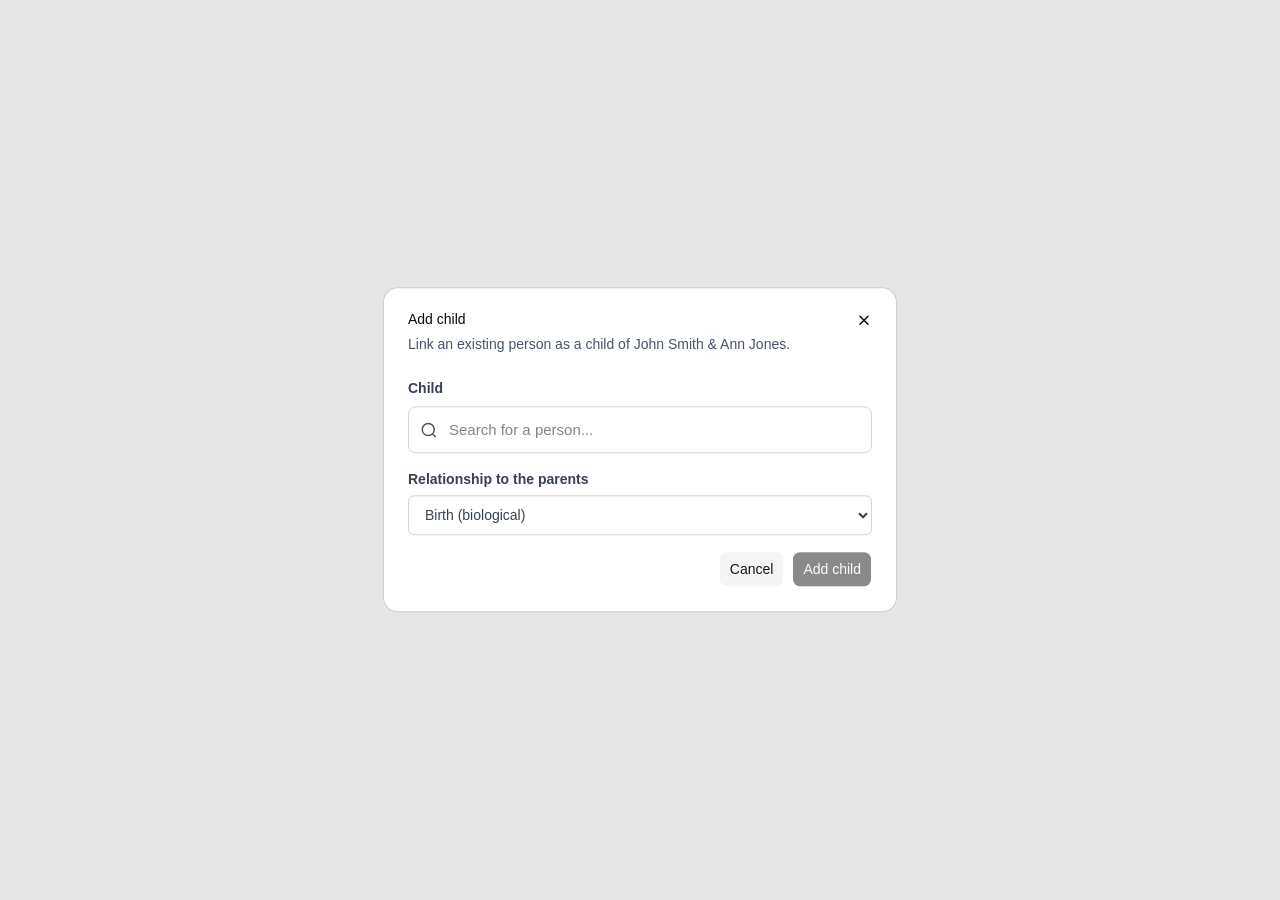
AddChildDialog › hides excluded people (the partners and current children) from the search
Type "Smith" into the dropdown named "Child". click: (640, 430)
box: [408,406,872,454]
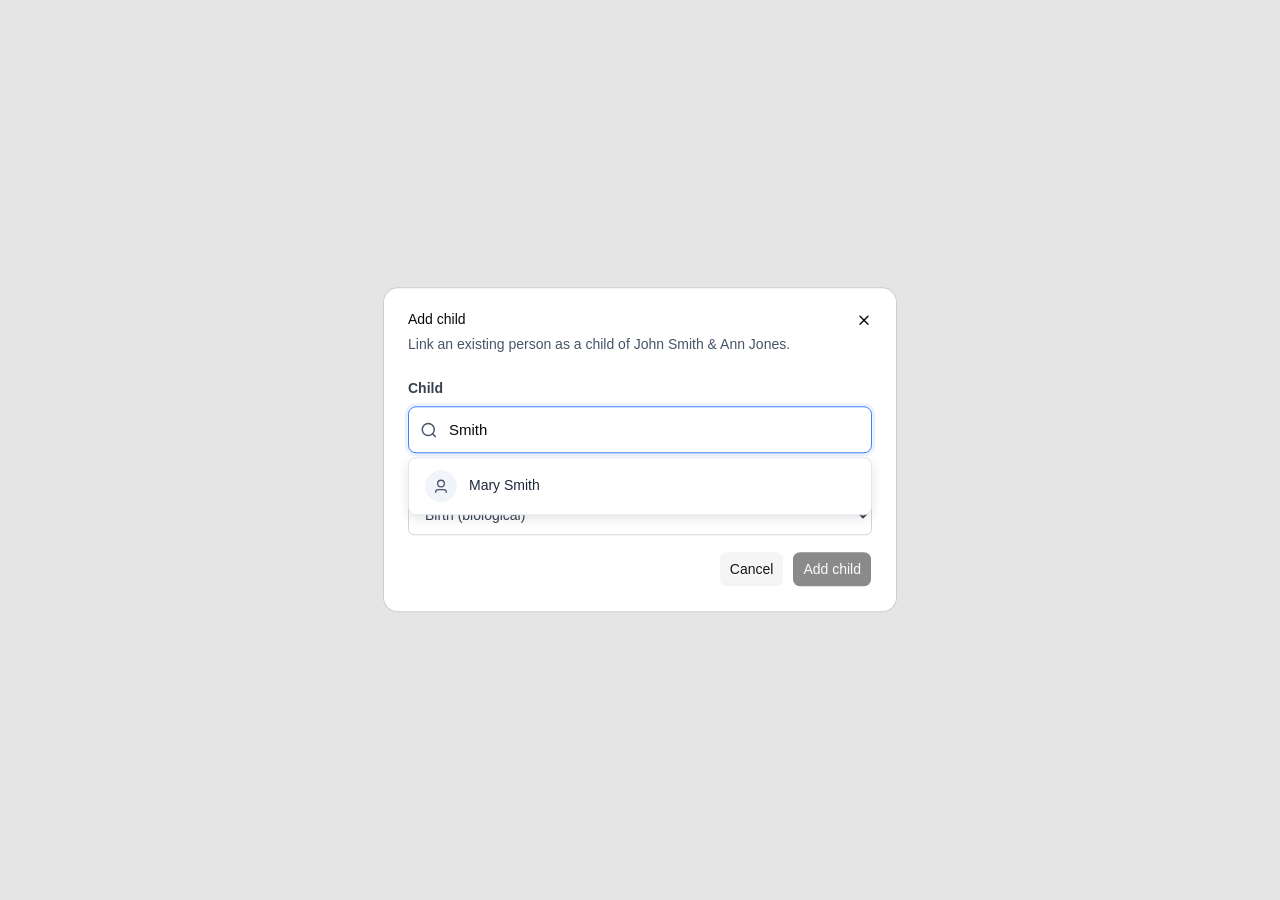
Result: the option "Mary Smith" is shown at [409,459,871,515]
